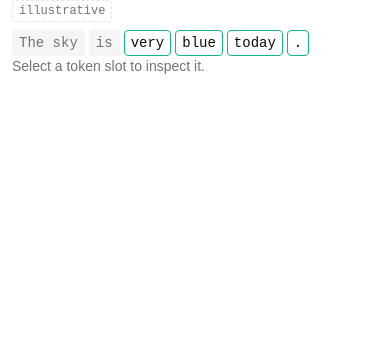
Test case: synchronized selection › clicking a canvas slot updates the inspector through context
Check: the text "Select a token slot to inspect it." is shown, box [12,58,205,74]
What coordinates should you click on to do the following:
click the button "blue"
I would click on:
 (199, 43)
Its box is [175,30,223,56].
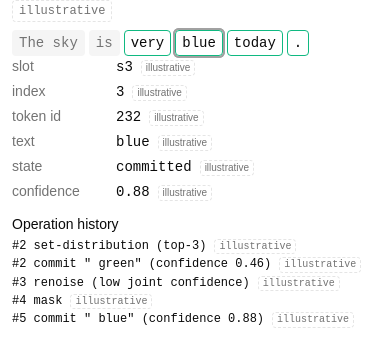
Check: the text "s3" is shown, box [116,57,133,77]
Check: the text "232" is shown, box [116,107,141,127]
